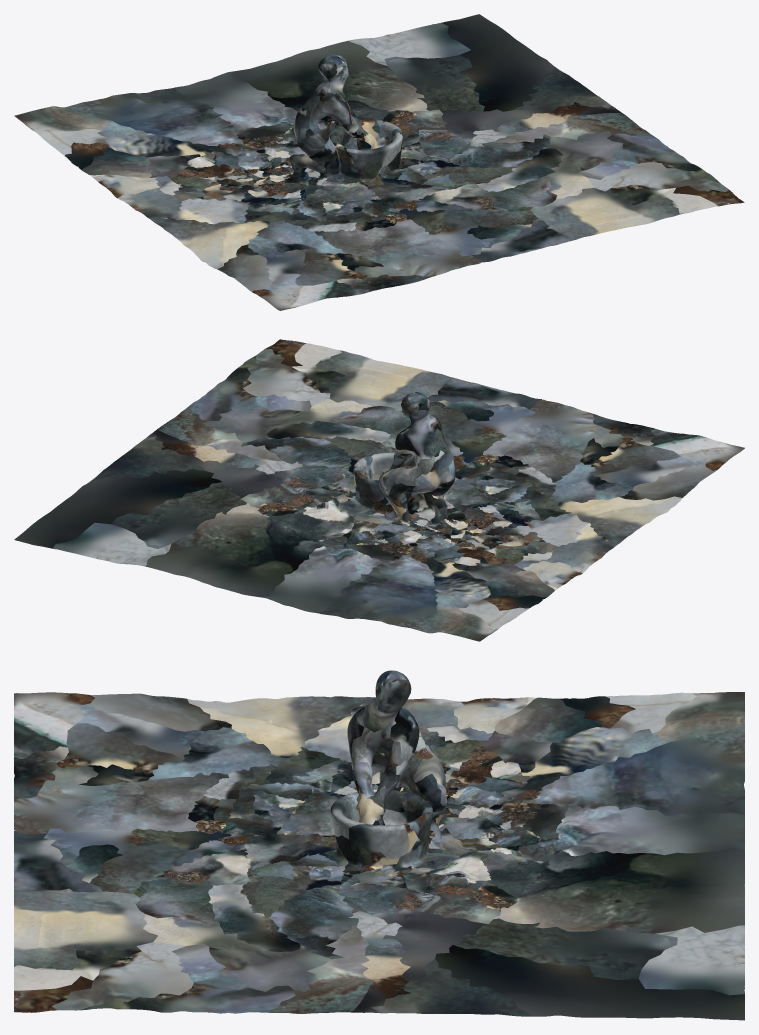
File: unknown_white_statue.obj
3 views of the same model, one above another, from view 1: azimuth 30°, elevation 25°; view 2: azimuth 150°, elevation 25°; view 3: azimuth 270°, elevation 25° (orthographic). The views are drawn at different scales.
Parts seen in each view (by area): view 1: Object; view 2: Object; view 3: Object.
Boxes of the visible parts, box(x1,y1,x2,y2) form: Object: box(14, 14, 744, 310); Object: box(14, 339, 744, 641); Object: box(14, 670, 744, 1020).
Size of the model in its own units: 5.65 by 1.39 by 5.59.
